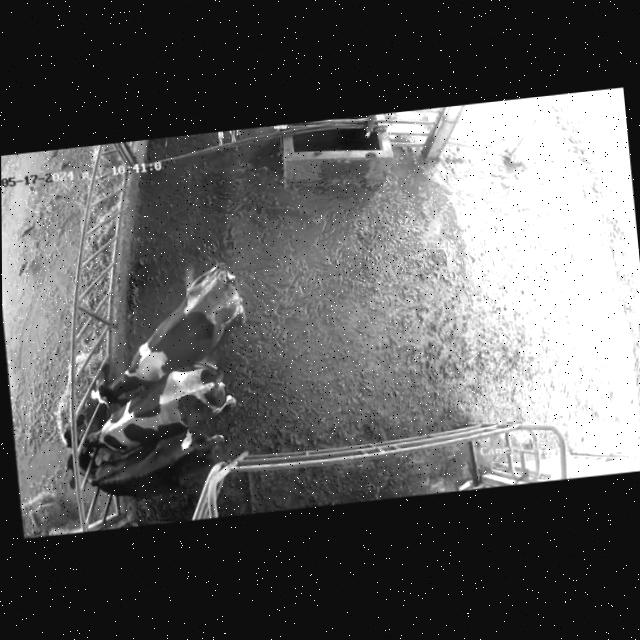eat: (34, 373, 122, 444), (51, 442, 139, 503), (40, 418, 138, 469)
